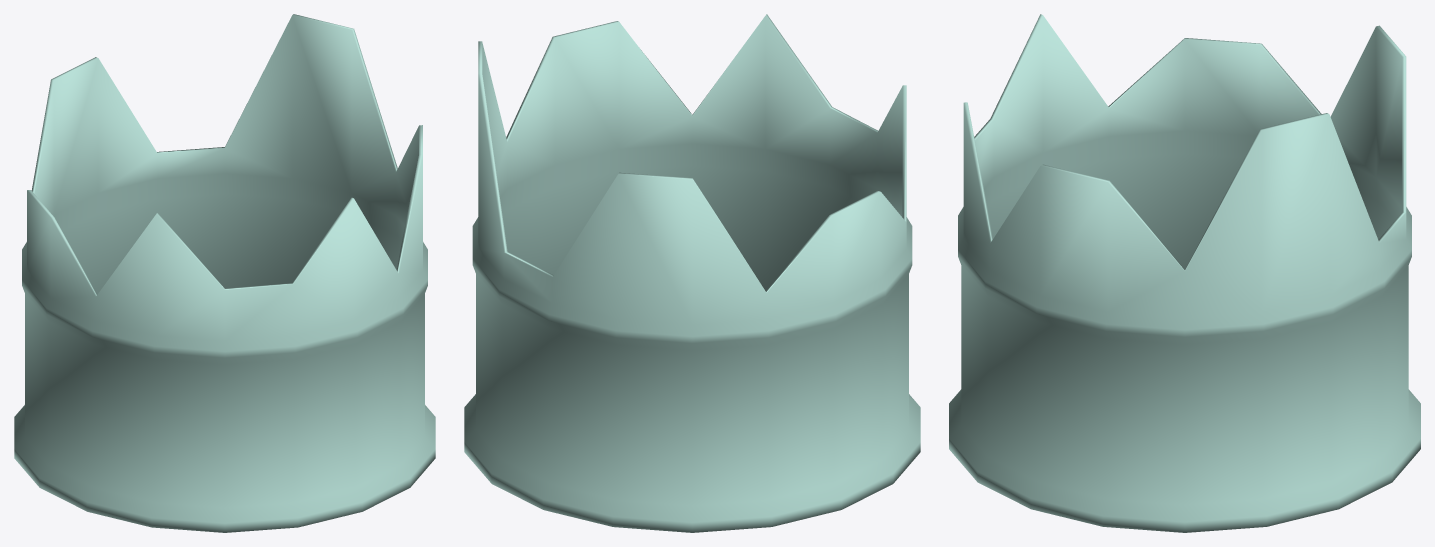
Rendered from DMBarrel_TX.fbx.
3 renders of one model, left to right at view 1: azimuth 30°, elevation 25°; view 2: azimuth 150°, elevation 25°; view 3: azimuth 270°, elevation 25°, orthographic. The views are drawn at different scales.
Parts seen in each view (by area): view 1: DMBarrel; view 2: DMBarrel; view 3: DMBarrel.
Boxes of the visible parts, x1=… form: DMBarrel: x1=14, y1=14, x2=435, y2=532; DMBarrel: x1=464, y1=14, x2=920, y2=532; DMBarrel: x1=949, y1=14, x2=1420, y2=532.
Bounding box in the file's own units: 11.72 × 10.78 × 11.54.
